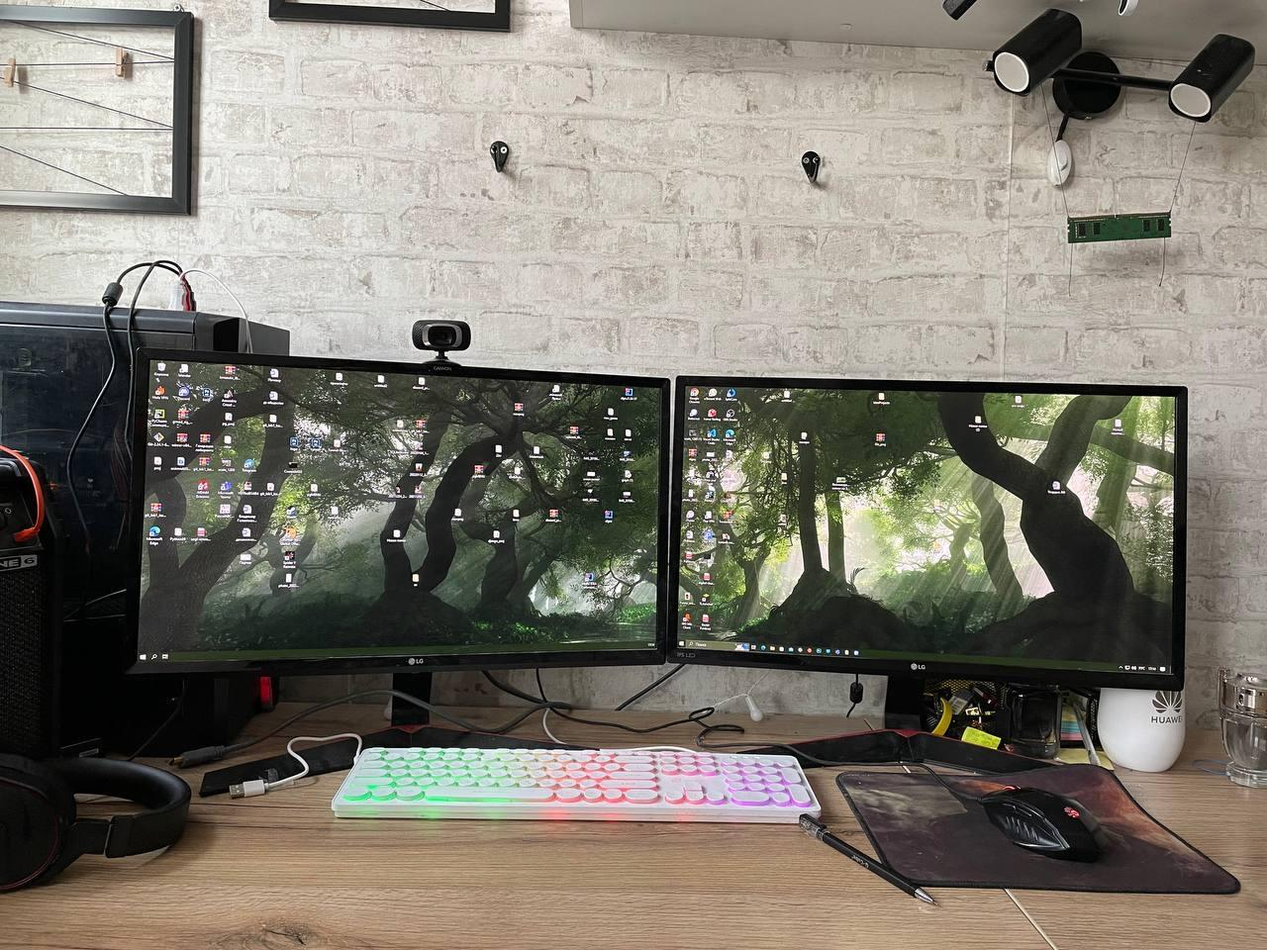monitor: (121, 345, 671, 684), (664, 374, 1191, 695)
